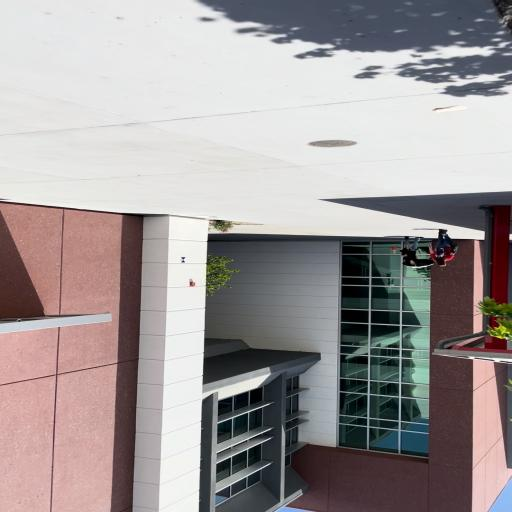target2: (180, 257, 187, 263)
